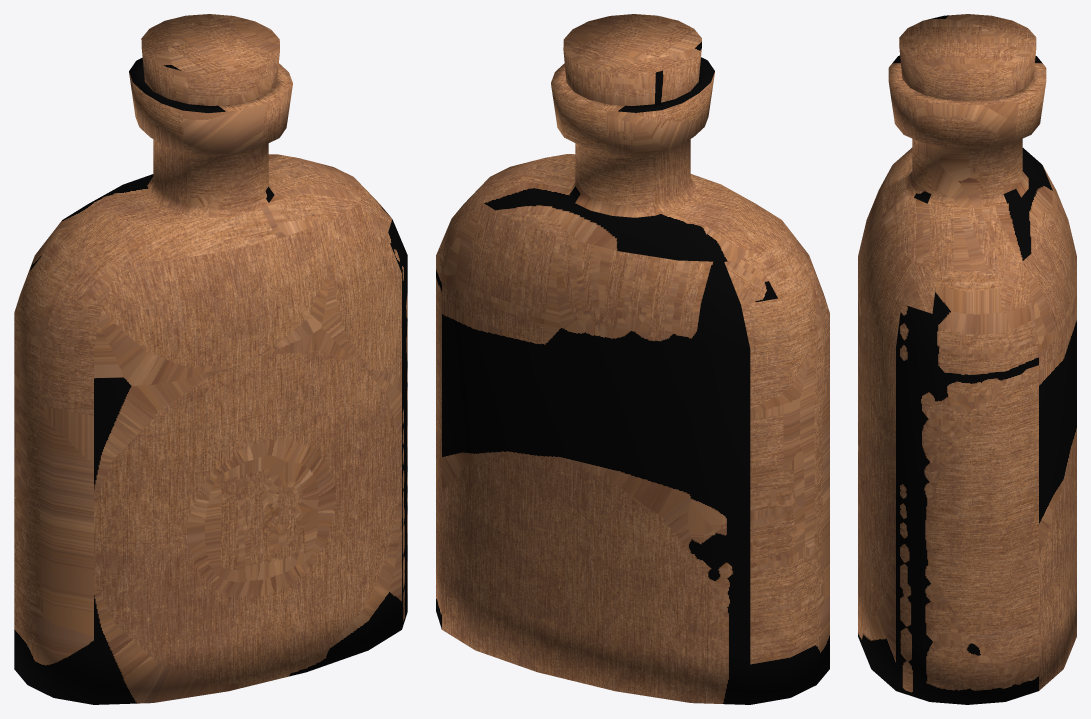
The model's file is PotionBottle.fbx.
3 views of the same model, side by side, from view 1: azimuth 30°, elevation 25°; view 2: azimuth 150°, elevation 25°; view 3: azimuth 270°, elevation 25° (orthographic). The views are drawn at different scales.
Visible parts, largest first — view 1: PotionBottle; view 2: PotionBottle; view 3: PotionBottle.
Part boxes in pixels (x1,y1,x2,y2): PotionBottle: (14,14,407,704); PotionBottle: (436,14,829,704); PotionBottle: (858,14,1076,704).
Size of the model in its own units: 13.15 by 20.41 by 7.03.
